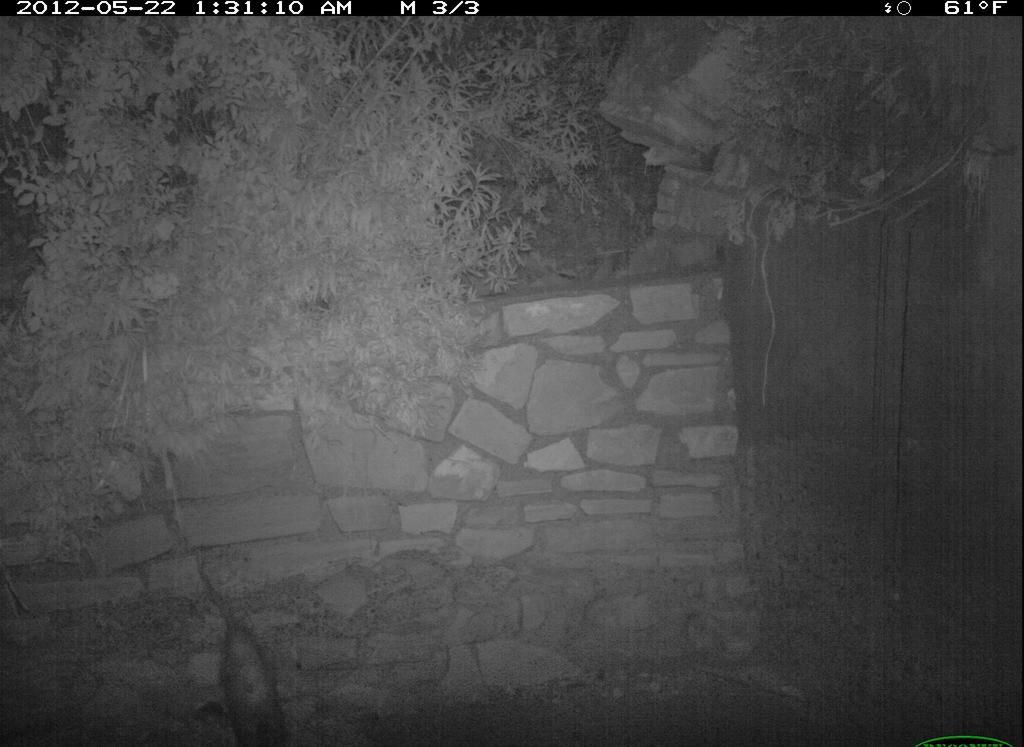opossum: (195, 567, 296, 747)
